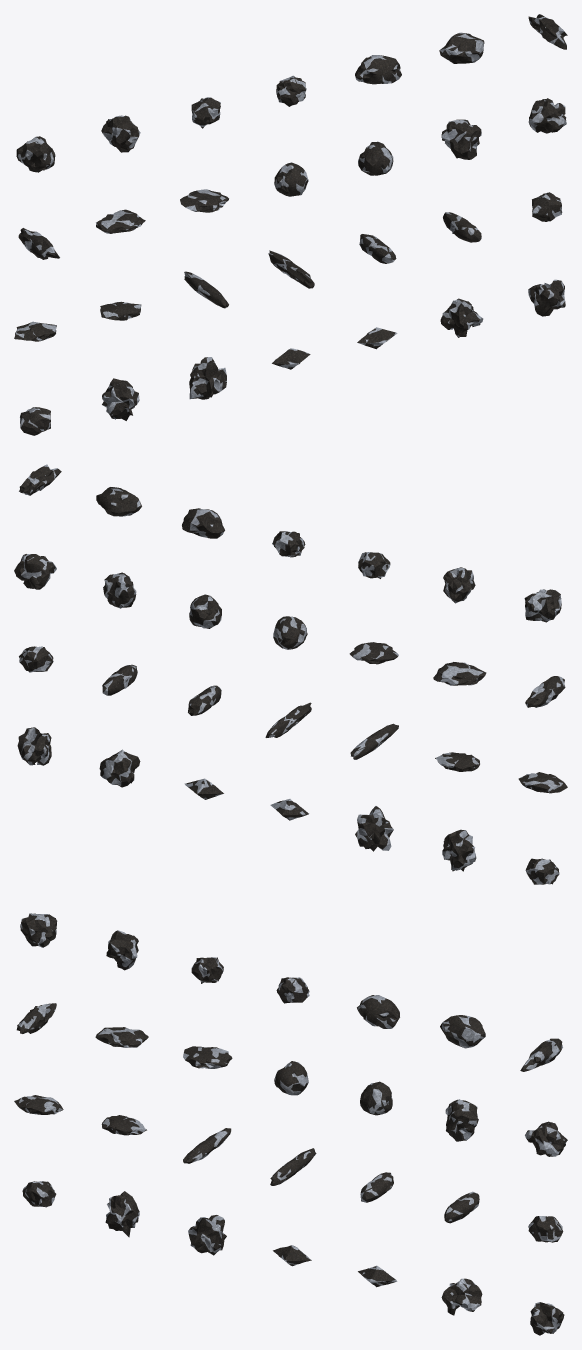
Rendered from asteroids_lod2.glb.
3 views of the same model, one above another, from view 1: azimuth 30°, elevation 25°; view 2: azimuth 150°, elevation 25°; view 3: azimuth 330°, elevation 25° (orthographic).
Visible parts, largest first — view 1: jagged_B_LOD2, cluster_A_LOD2, jagged_A_LOD2, potato_A_LOD2, potato_B_LOD2, cluster_B_LOD2, hollow_A_LOD2, hollow_B_LOD2, lumpy_A_LOD2, lumpy_B_LOD2, cratered_B_LOD2, cratered_A_LOD2 (+14 smaller); view 2: jagged_B_LOD2, cluster_B_LOD2, jagged_A_LOD2, hollow_A_LOD2, hollow_B_LOD2, lumpy_A_LOD2, potato_A_LOD2, potato_B_LOD2, pancake_A_LOD2, cluster_A_LOD2, cratered_A_LOD2, cratered_B_LOD2 (+14 smaller); view 3: jagged_B_LOD2, potato_B_LOD2, cluster_A_LOD2, jagged_A_LOD2, potato_A_LOD2, hollow_A_LOD2, lumpy_A_LOD2, cluster_B_LOD2, lumpy_B_LOD2, pancake_B_LOD2, cratered_B_LOD2, cratered_A_LOD2 (+14 smaller).
Boxes of the visible parts, bbox=[...] form: jagged_B_LOD2: bbox=[189, 357, 226, 399]; cluster_A_LOD2: bbox=[441, 119, 481, 159]; jagged_A_LOD2: bbox=[102, 378, 139, 420]; potato_A_LOD2: bbox=[355, 55, 401, 84]; potato_B_LOD2: bbox=[439, 32, 484, 63]; cluster_B_LOD2: bbox=[528, 98, 566, 133]; hollow_A_LOD2: bbox=[440, 298, 483, 337]; hollow_B_LOD2: bbox=[528, 279, 565, 316]; lumpy_A_LOD2: bbox=[16, 136, 55, 172]; lumpy_B_LOD2: bbox=[101, 115, 140, 152]; cratered_B_LOD2: bbox=[358, 141, 393, 175]; cratered_A_LOD2: bbox=[274, 162, 308, 196]; jagged_B_LOD2: bbox=[355, 806, 393, 851]; cluster_B_LOD2: bbox=[14, 554, 56, 589]; jagged_A_LOD2: bbox=[442, 829, 476, 871]; hollow_A_LOD2: bbox=[99, 749, 140, 787]; hollow_B_LOD2: bbox=[17, 727, 51, 765]; lumpy_A_LOD2: bbox=[524, 589, 561, 622]; potato_A_LOD2: bbox=[182, 508, 224, 538]; potato_B_LOD2: bbox=[96, 487, 141, 516]; pancake_A_LOD2: bbox=[433, 662, 486, 685]; cluster_A_LOD2: bbox=[103, 572, 136, 608]; cratered_A_LOD2: bbox=[273, 616, 307, 649]; cratered_B_LOD2: bbox=[189, 594, 221, 628]; jagged_B_LOD2: bbox=[188, 1215, 226, 1255]; potato_B_LOD2: bbox=[440, 1015, 485, 1048]; cluster_A_LOD2: bbox=[445, 1099, 478, 1141]; jagged_A_LOD2: bbox=[105, 1191, 139, 1237]; potato_A_LOD2: bbox=[357, 995, 399, 1028]; hollow_A_LOD2: bbox=[441, 1278, 482, 1315]; lumpy_A_LOD2: bbox=[20, 913, 57, 947]; cluster_B_LOD2: bbox=[525, 1121, 567, 1156]; lumpy_B_LOD2: bbox=[106, 930, 138, 970]; pancake_B_LOD2: bbox=[183, 1046, 232, 1068]; cratered_B_LOD2: bbox=[360, 1081, 392, 1115]; cratered_A_LOD2: bbox=[274, 1061, 308, 1095].
Bounding box in the file's own units: 38.88 × 20.73 × 5.5.
2 materials, 2 textured.
